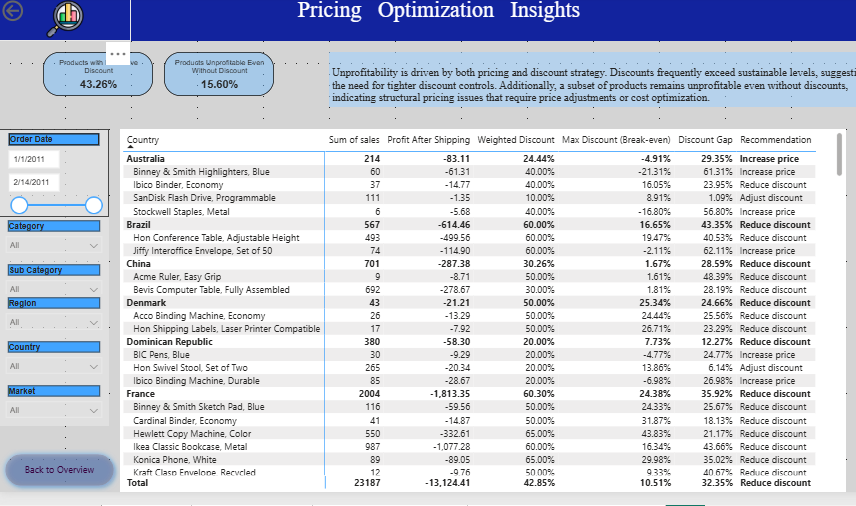

Layout of this report page (visuals, bound fields, positions):
{"tool":"powerbi","page":{"name":"Pricing Optimization Insights","canvas":[1280,720],"ordinal":3},"visuals":[{"type":"image","box":[0,0,171.5,105.7],"z":0},{"type":"textbox","title":"Pricing   Optimization   Insights","box":[0,0,1280,64],"z":1000},{"type":"card","title":"Products with Excessive Discount","fields":{"Values":["DATASET.% Excess Discount"]},"box":[64,80,160,80],"z":2000},{"type":"slicer","fields":{"Values":["DATASET.order_date"]},"box":[0,192,160,128],"z":3000},{"type":"slicer","fields":{"Values":["DATASET.country"]},"box":[0,496,160,64],"z":4000},{"type":"slicer","fields":{"Values":["DATASET.sub_category"]},"box":[0,384,160,48],"z":5000},{"type":"actionButton","box":[0,0,100,40],"z":6000},{"type":"actionButton","box":[0,656,176,64],"z":7000},{"type":"image","box":[0,0,192,64],"z":8000},{"type":"slicer","fields":{"Values":["DATASET.region"]},"box":[0,432,160,64],"z":9000},{"type":"slicer","fields":{"Values":["DATASET.category"]},"box":[0,320,160,64],"z":10000},{"type":"slicer","fields":{"Values":["DATASET.market"]},"box":[0,560,160,64],"z":11000},{"type":"pivotTable","fields":{"Values":["Sum(DATASET.sales)","DATASET.Profit After Shipping","DATASET.Weighted Discount","DATASET.Max Discount (Break-even)","DATASET.Discount Gap","DATASET.Pricing Status"],"Rows":["DATASET.country","DATASET.product_name"]},"box":[176,176,1040,544],"z":12000},{"type":"card","title":"Products Unprofitable Even Without Discount","fields":{"Values":["DATASET.% Products Unprofitable (No Discount)"]},"box":[240,80,160,80],"z":13000},{"type":"textbox","box":[480,80,800,80],"z":14000}]}

Visuals, with their boxes on the page's 1280x720 design canvas (x1, y1, x2, y2). These are canvas units, not pixel positions in the 856x506 screenshot, which may show the page scaled, cropped or inside an application window:
image: rect(0, 0, 172, 106)
"Pricing   Optimization   Insights" textbox: rect(0, 0, 1280, 64)
"Products with Excessive Discount" card: rect(64, 80, 224, 160)
slicer - DATASET.order_date: rect(0, 192, 160, 320)
slicer - DATASET.country: rect(0, 496, 160, 560)
slicer - DATASET.sub_category: rect(0, 384, 160, 432)
actionButton: rect(0, 0, 100, 40)
actionButton: rect(0, 656, 176, 720)
image: rect(0, 0, 192, 64)
slicer - DATASET.region: rect(0, 432, 160, 496)
slicer - DATASET.category: rect(0, 320, 160, 384)
slicer - DATASET.market: rect(0, 560, 160, 624)
pivotTable - Sum(DATASET.sales) x DATASET.Profit After Shipping: rect(176, 176, 1216, 720)
"Products Unprofitable Even Without Discount" card: rect(240, 80, 400, 160)
textbox: rect(480, 80, 1280, 160)
